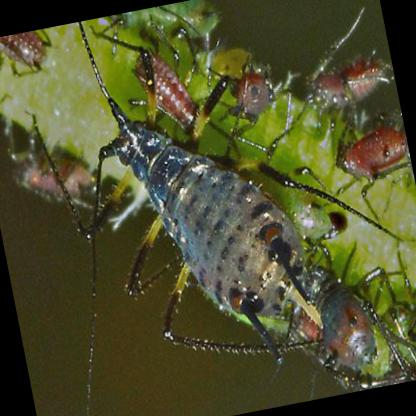uroleucon compositae: (82, 28, 371, 359)
